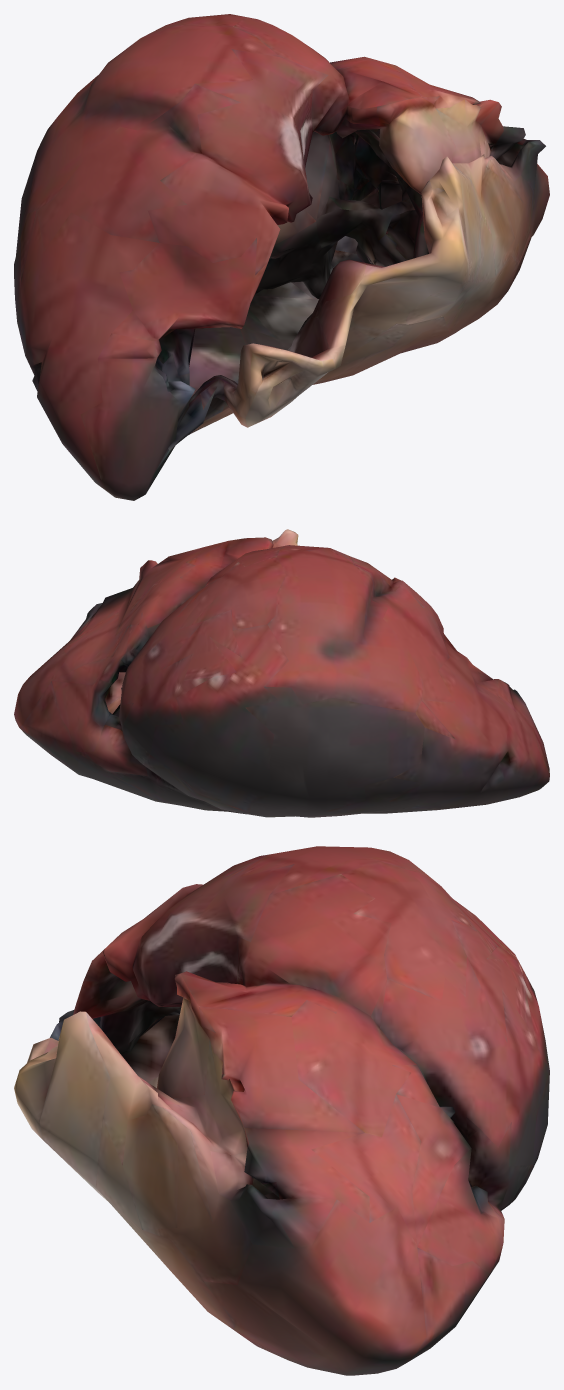
Rendered from liver.glb.
3 views of the same model, one above another, from view 1: azimuth 30°, elevation 25°; view 2: azimuth 150°, elevation 25°; view 3: azimuth 270°, elevation 25° (orthographic). The views are drawn at different scales.
Visible parts, largest first — view 1: Mesh_0; view 2: Mesh_0; view 3: Mesh_0.
Part boxes in pixels (x1=…): Mesh_0: x1=14, y1=14, x2=549, y2=500; Mesh_0: x1=14, y1=529, x2=549, y2=817; Mesh_0: x1=14, y1=846, x2=549, y2=1375.
Size of the model in its own units: 2 by 1.17 by 1.42.
Materials: 1 (1 with a texture image).
